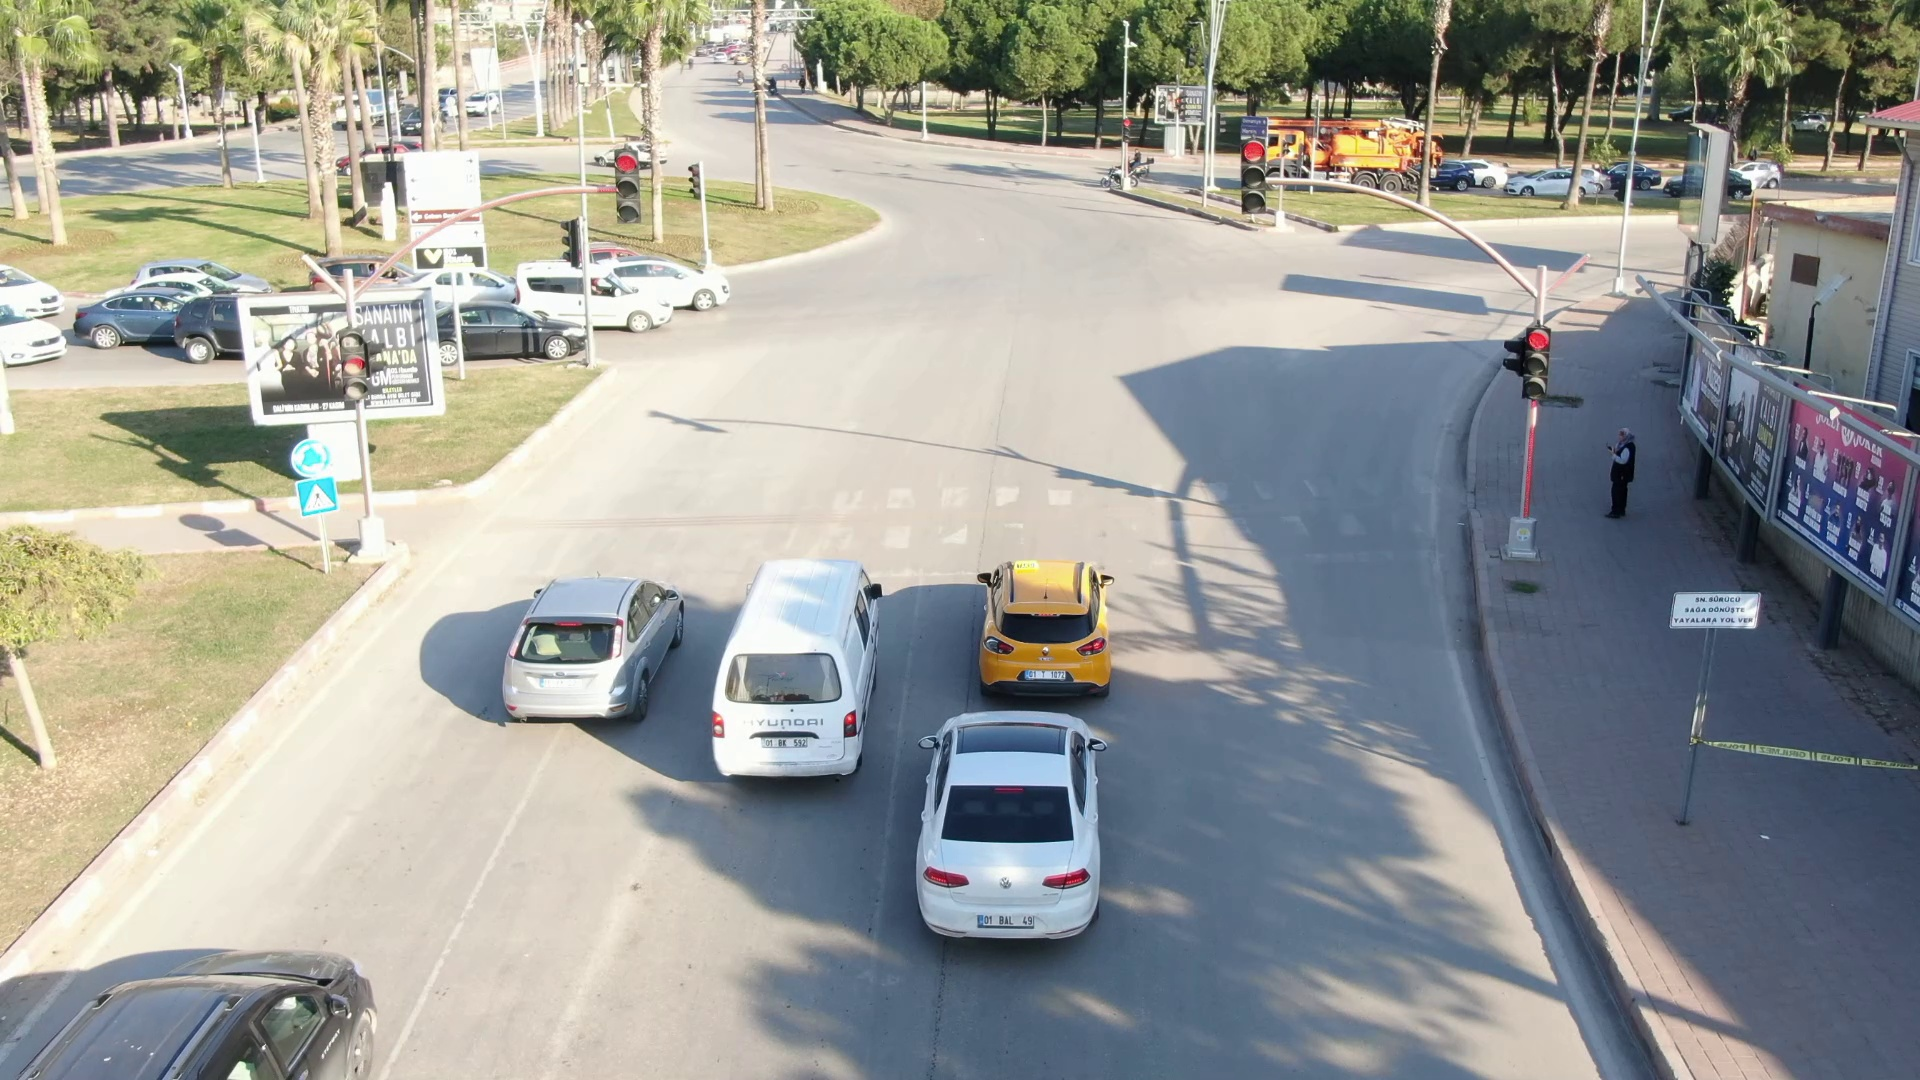car: (908, 706, 1121, 961), (50, 935, 386, 1080), (694, 557, 896, 798), (459, 566, 714, 743), (970, 555, 1135, 708)
person: (1602, 421, 1649, 521)
